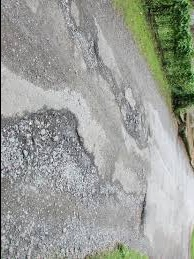pothole: (1, 107, 155, 258), (66, 0, 106, 75), (121, 104, 148, 150), (106, 62, 124, 102)
